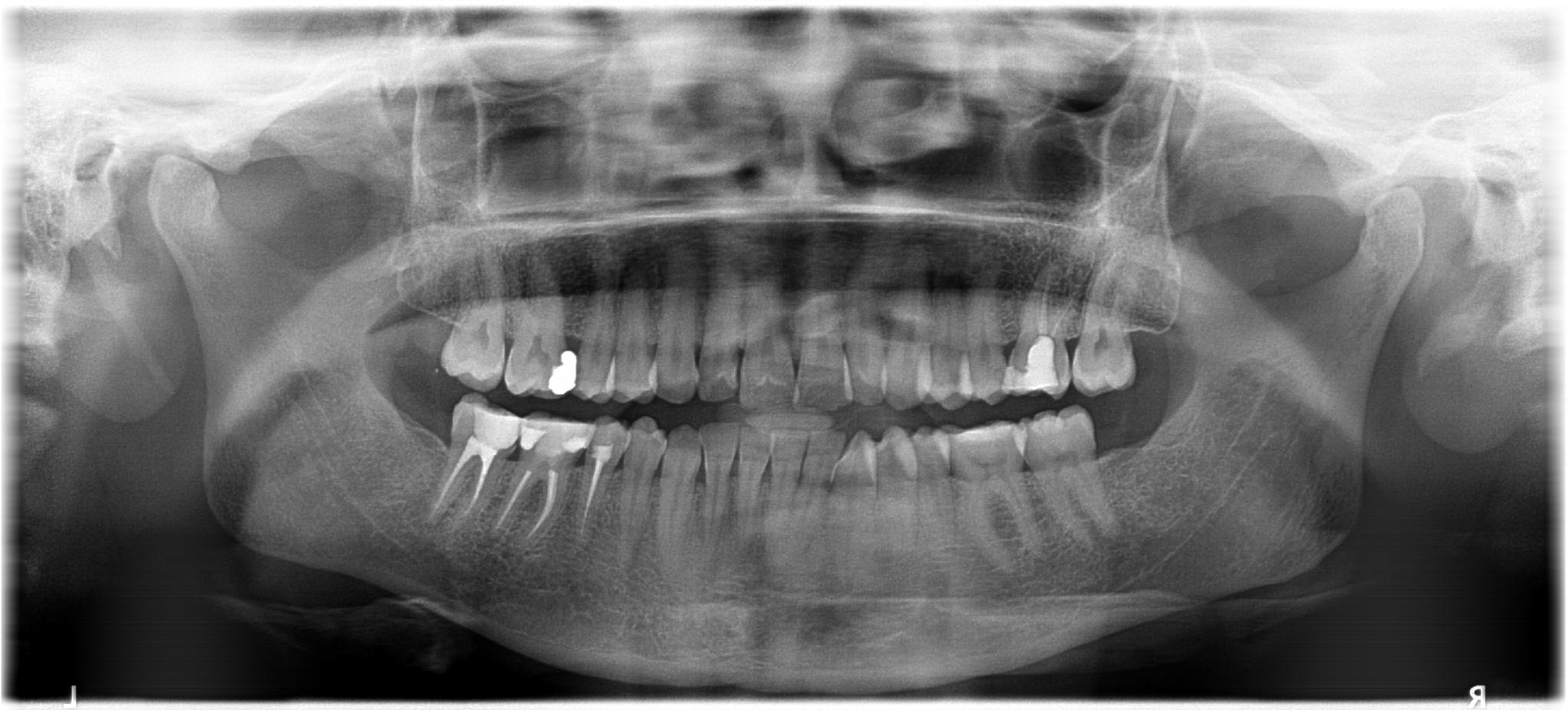Premolars: (519, 195, 1568, 599), (498, 208, 1513, 598), (314, 211, 920, 624), (296, 207, 909, 604)
